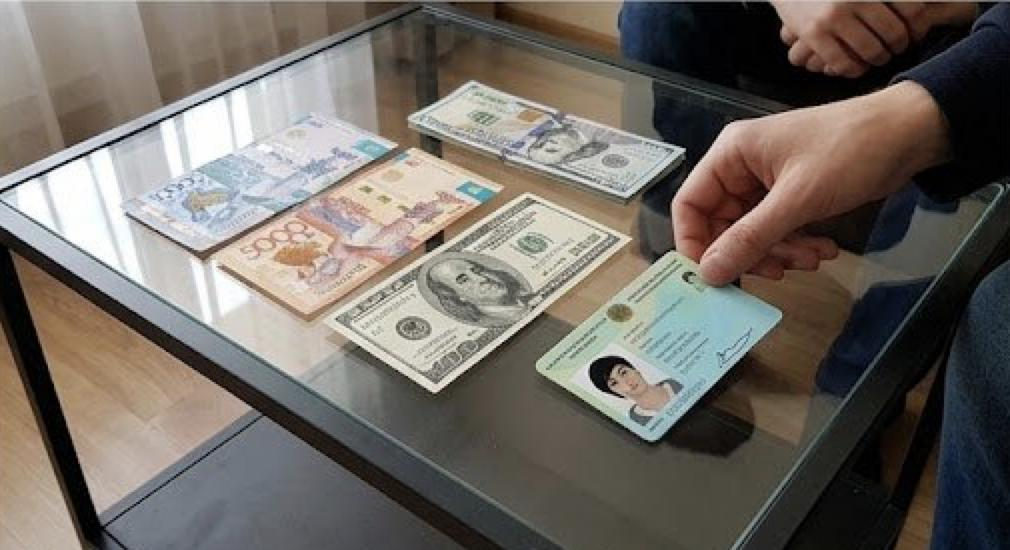cash_stack: (326, 194, 636, 393), (217, 150, 498, 318), (120, 107, 399, 259), (401, 79, 688, 209)
document: (532, 254, 785, 445)
